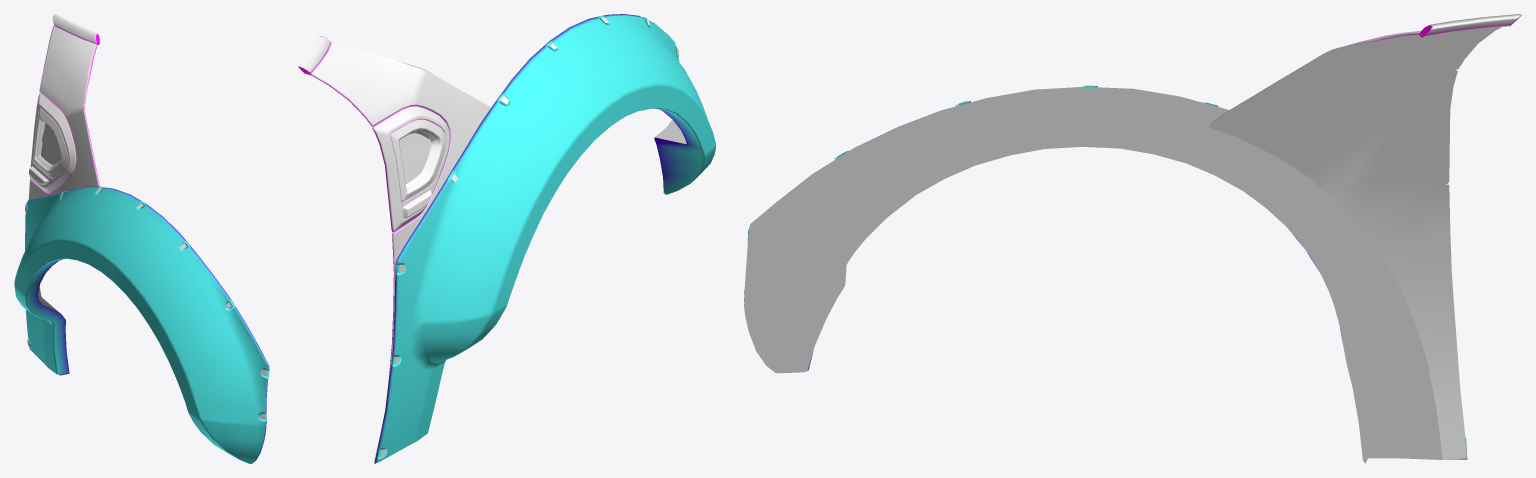
Rendered from Car_Mini_CountrymanJCW_2017_FenderFR_SetE.fbx.
3 renders of one model, left to right at view 1: azimuth 30°, elevation 25°; view 2: azimuth 150°, elevation 25°; view 3: azimuth 270°, elevation 25°, orthographic. The views are drawn at different scales.
Visible parts, largest first — view 1: FenderFR 6; view 2: FenderFR 6; view 3: FenderFR 6.
Part boxes in pixels (x1=…): FenderFR 6: x1=14, y1=14, x2=269, y2=463; FenderFR 6: x1=298, y1=14, x2=715, y2=463; FenderFR 6: x1=744, y1=14, x2=1521, y2=463.
Bounding box in the file's own units: 0.2839 × 0.7508 × 1.11.
